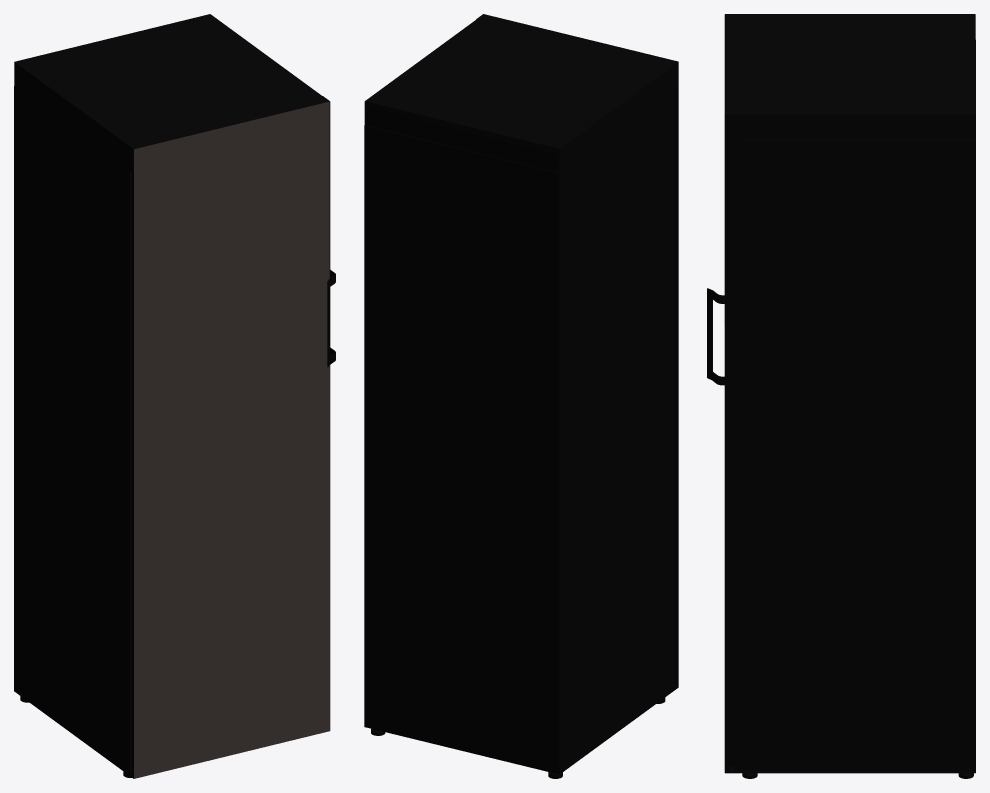
The model's file is electronic_46_02.001.fbx.
3 renders of one model, left to right at view 1: azimuth 30°, elevation 25°; view 2: azimuth 150°, elevation 25°; view 3: azimuth 270°, elevation 25°, orthographic. The views are drawn at different scales.
Parts seen in each view (by area): view 1: electronic_46_02.001; view 2: electronic_46_02.001; view 3: electronic_46_02.001.
Boxes of the visible parts, left/top/right/bottom form: electronic_46_02.001: left=14, top=14, right=335, bottom=778; electronic_46_02.001: left=364, top=14, right=678, bottom=778; electronic_46_02.001: left=707, top=14, right=975, bottom=778.
Bounding box in the file's own units: 60.92 × 185 × 67.75.
Materials: 1 (1 with a texture image).
